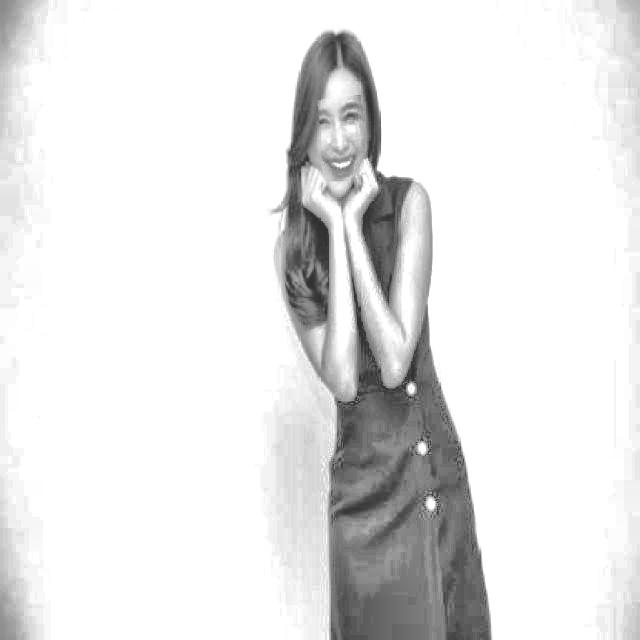happy: (320, 96, 368, 178)
